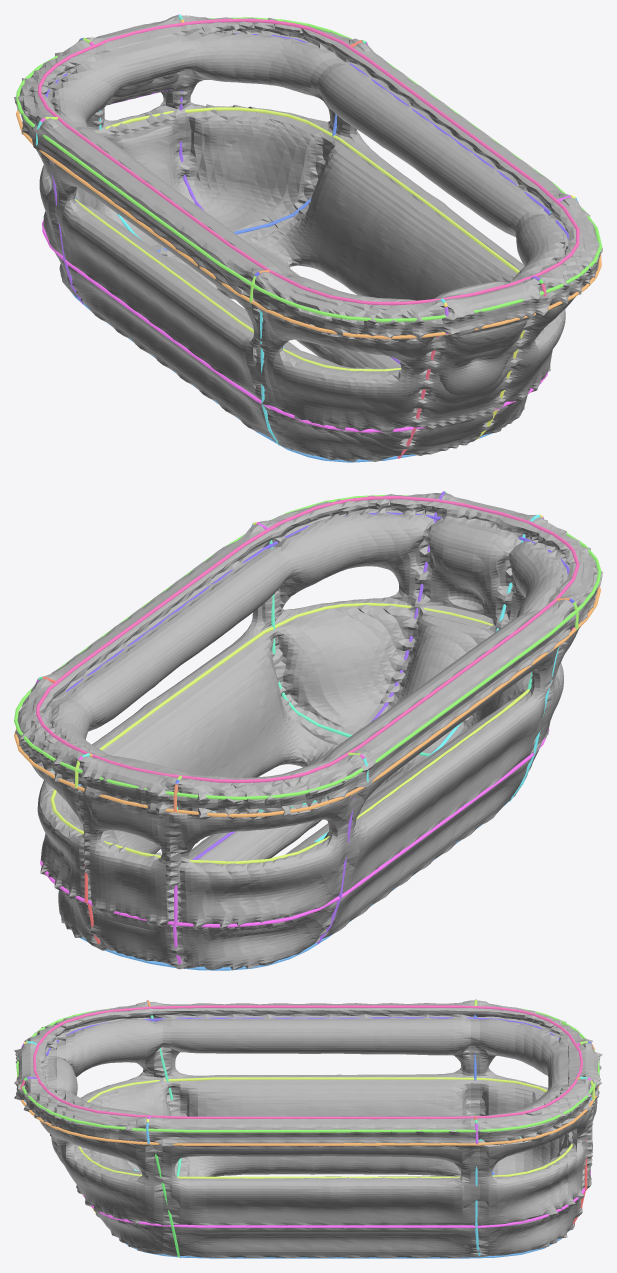
The model's file is flowrep_bathtub.gltf.
3 views of the same model, one above another, from view 1: azimuth 30°, elevation 25°; view 2: azimuth 150°, elevation 25°; view 3: azimuth 270°, elevation 25° (orthographic). The views are drawn at different scales.
Bounding box in the file's own units: 0.4456 × 0.2839 × 0.873.
